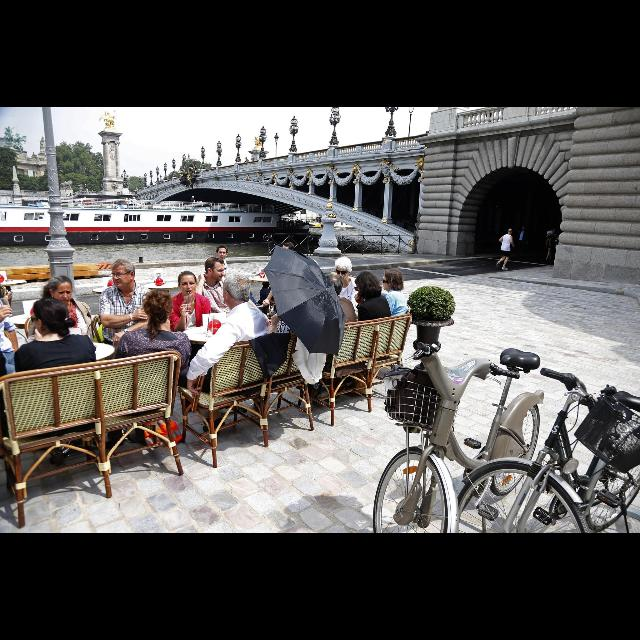head: (32, 298, 66, 334), (145, 288, 173, 326), (223, 274, 251, 308), (48, 276, 74, 306), (112, 260, 136, 288), (356, 272, 378, 298), (204, 258, 226, 282), (178, 271, 198, 297), (297, 286, 319, 308), (334, 258, 352, 282), (382, 270, 402, 290), (326, 274, 344, 296), (0, 272, 12, 296), (216, 246, 228, 260), (283, 244, 295, 256), (508, 229, 512, 235), (522, 226, 526, 232), (86, 188, 88, 190), (192, 196, 194, 198), (70, 192, 70, 194)
person: (0, 296, 100, 460), (94, 288, 194, 446), (184, 272, 270, 436), (99, 257, 178, 429), (26, 274, 106, 431), (239, 282, 327, 408), (323, 270, 392, 402), (294, 274, 360, 408), (190, 255, 256, 373), (162, 269, 222, 395), (0, 271, 36, 461), (310, 255, 368, 372), (352, 266, 411, 378), (256, 240, 304, 320), (208, 244, 262, 312), (494, 228, 516, 270), (516, 224, 530, 260), (190, 195, 194, 211), (85, 188, 88, 195), (70, 192, 72, 198)
